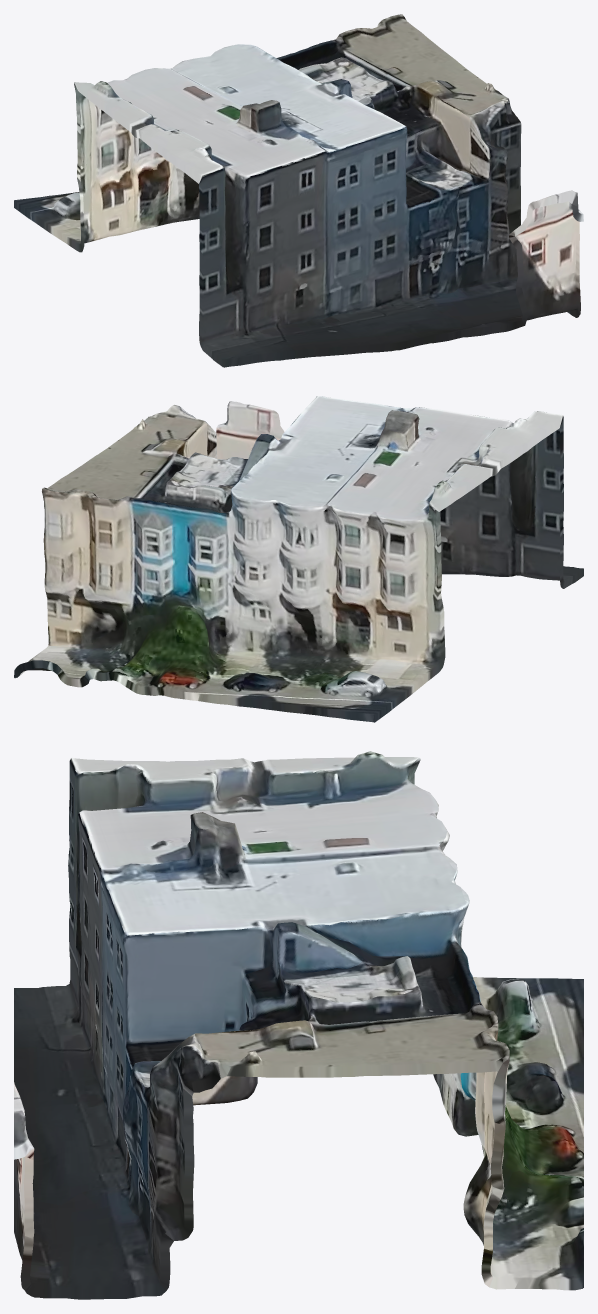
Rendered from z20-167735-405198-h0-yup-uvflip-v3-world.glb.
The picture shows the model from 3 angles, top to bottom: view 1: azimuth 30°, elevation 25°; view 2: azimuth 150°, elevation 25°; view 3: azimuth 270°, elevation 25°; orthographic projection. The views are drawn at different scales.
Size of the model in its own units: 30.2 by 18.52 by 30.32.
1 material, 1 textured.
